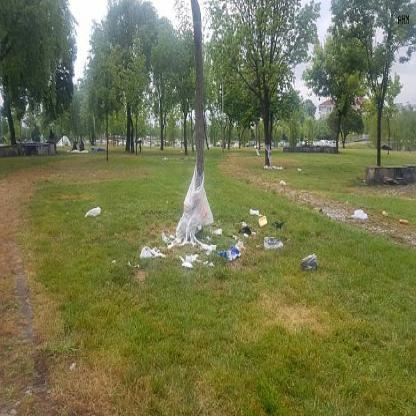Garbage: (295, 251, 323, 276), (247, 206, 270, 233), (220, 244, 243, 262)
